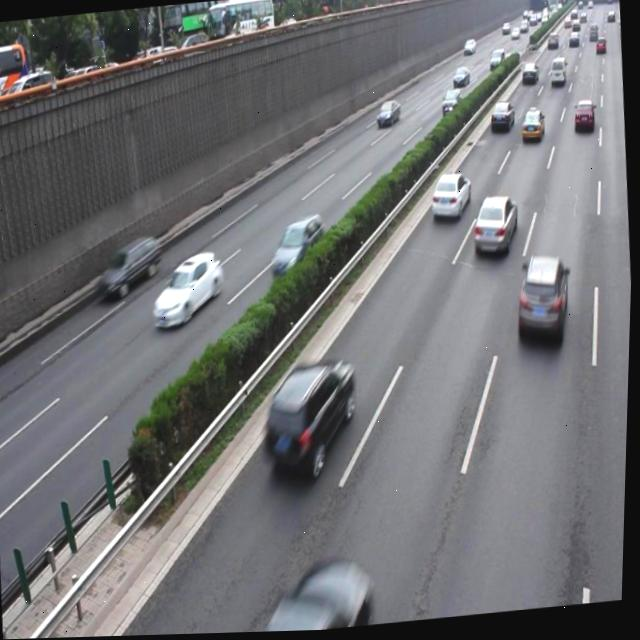car: (261, 358, 362, 484), (260, 559, 376, 634), (149, 251, 227, 330), (512, 254, 573, 345), (95, 235, 166, 301), (267, 216, 329, 279), (470, 195, 521, 260), (428, 173, 473, 224)
